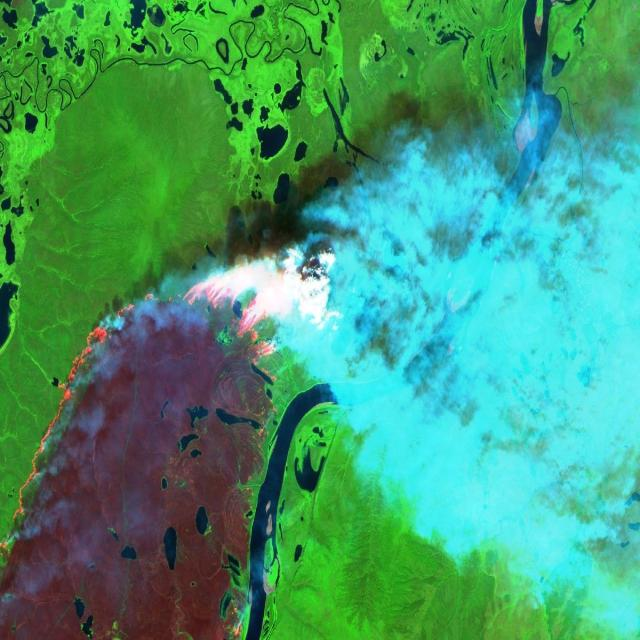fire: (0, 236, 348, 640)
